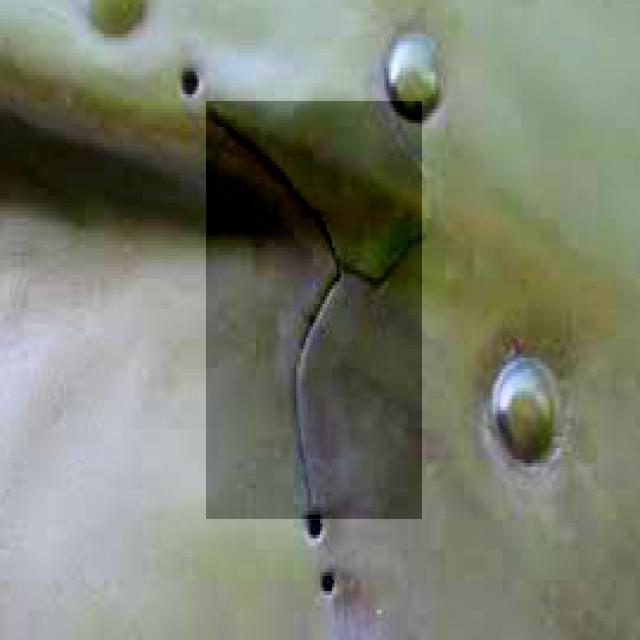crack: (207, 103, 423, 521)
